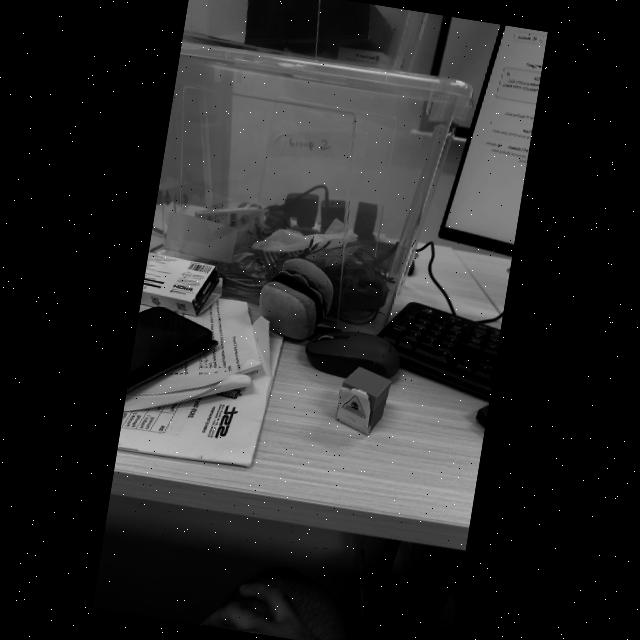Tsunami: (342, 396, 366, 419)
